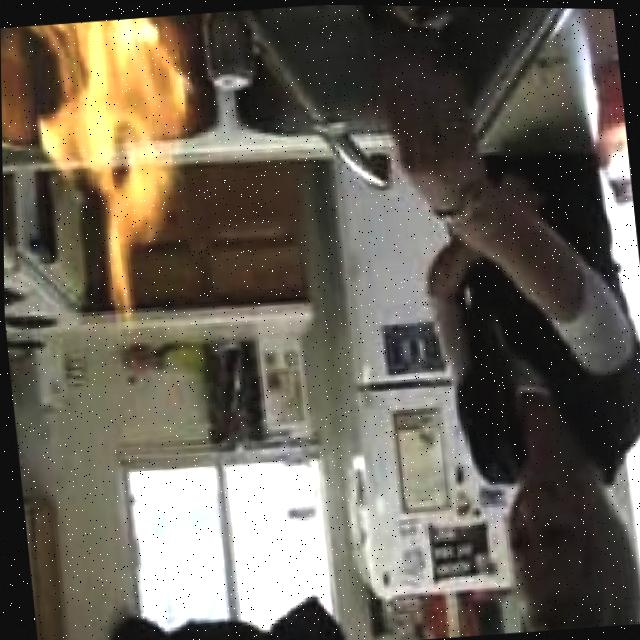Fire: (25, 11, 211, 310)
